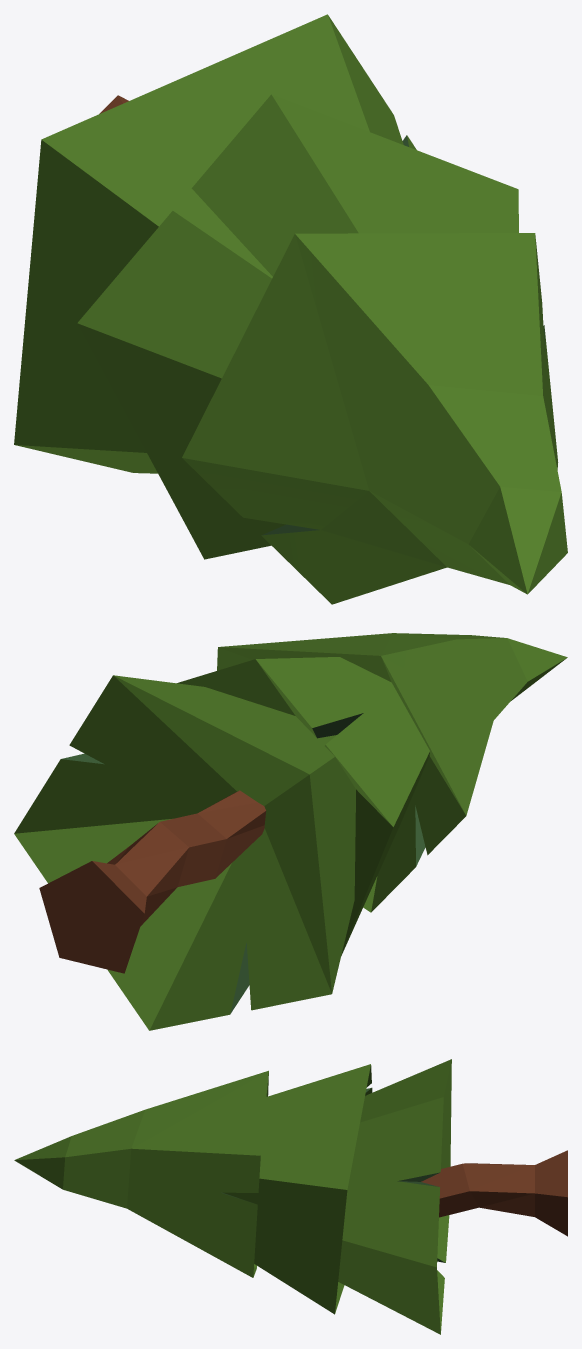
Rendered from tree2.fbx.
3 renders of one model, top to bottom at view 1: azimuth 30°, elevation 25°; view 2: azimuth 150°, elevation 25°; view 3: azimuth 270°, elevation 25°, orthographic. The views are drawn at different scales.
Parts seen in each view (by area): view 1: Pine_Variant_A_Young_B.002; view 2: Pine_Variant_A_Young_B.002; view 3: Pine_Variant_A_Young_B.002.
Boxes of the visible parts, x1,y1,x2,y2 form: Pine_Variant_A_Young_B.002: [14, 14, 567, 604]; Pine_Variant_A_Young_B.002: [14, 633, 567, 1030]; Pine_Variant_A_Young_B.002: [14, 1059, 567, 1334].
Bounding box in the file's own units: 942 × 941 × 1884.
